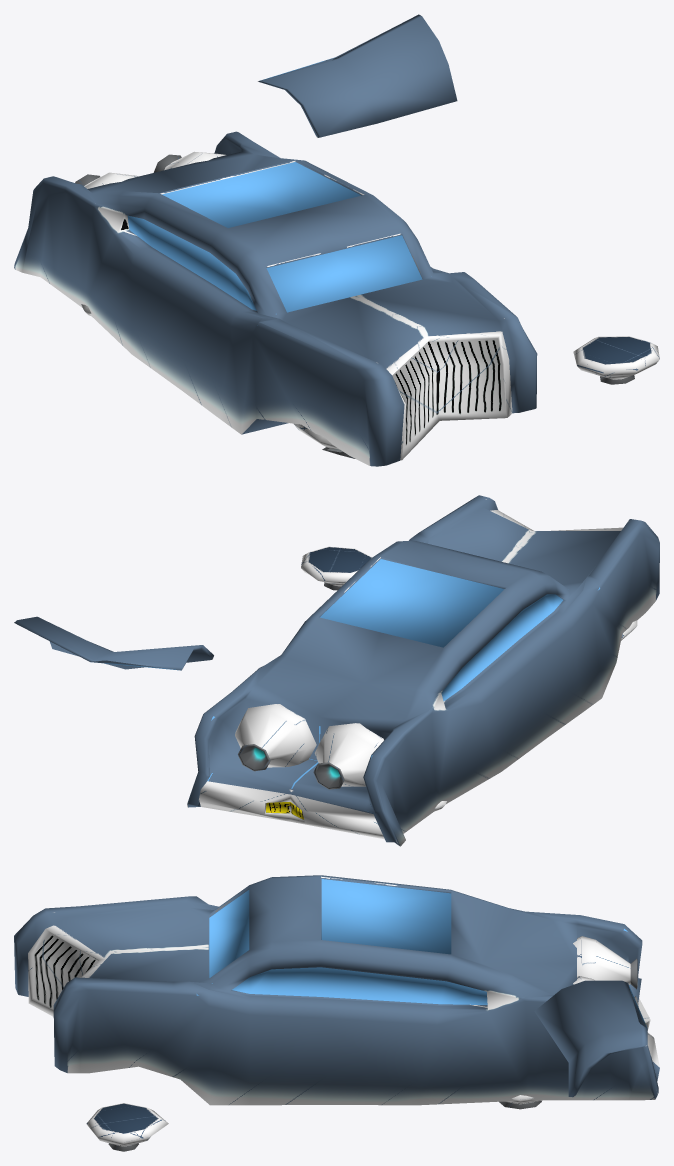
The model's file is carBothEndDamage.fbx.
3 views of the same model, one above another, from view 1: azimuth 30°, elevation 25°; view 2: azimuth 150°, elevation 25°; view 3: azimuth 270°, elevation 25° (orthographic). The views are drawn at different scales.
Visible parts, largest first — view 1: Cube.003, Cube.002, Cube.001; view 2: Cube.003, Cube.002, Cube.001; view 3: Cube.003, Cube.002, Cube.001.
Part boxes in pixels (x1,y1,x2,y2): Cube.003: [14, 131, 537, 466]; Cube.002: [257, 14, 457, 137]; Cube.001: [573, 336, 659, 384]; Cube.003: [187, 495, 659, 846]; Cube.002: [14, 616, 213, 670]; Cube.001: [301, 546, 372, 590]; Cube.003: [14, 875, 659, 1109]; Cube.002: [534, 980, 647, 1097]; Cube.001: [86, 1103, 168, 1151].
Size of the model in its own units: 6.03 by 2.4 by 8.63.
